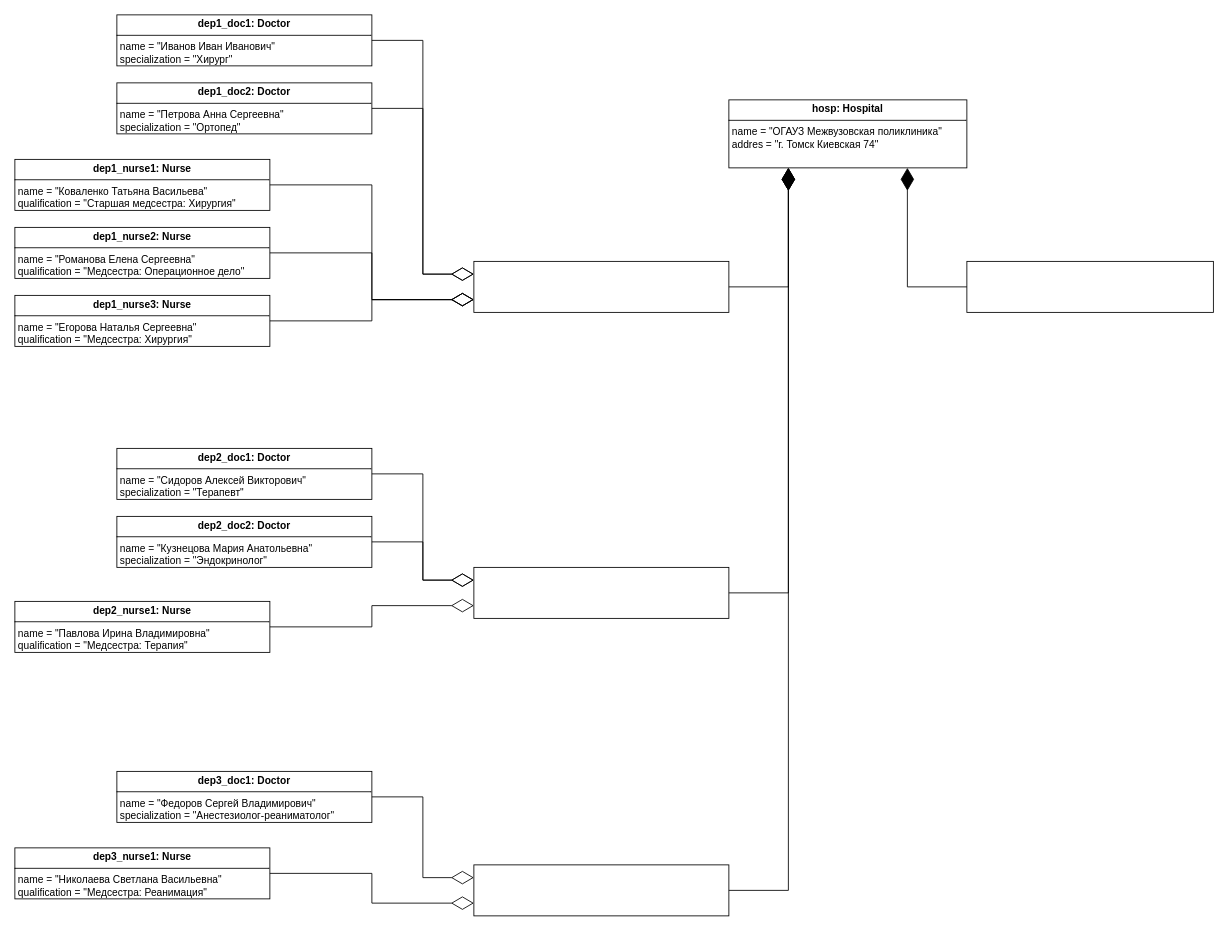
This 1228x940 diagram has some shape labels left out. The shapes that lost their labels are listed below. From the top down, each one's centre as x and y in pixels, then its label:
[601,286]: dep1: Department name = "Хирургическое отделение"
[1089,286]: reception: Reception phone_number = "81234567890"
[601,592]: dep2: Department name = "Терапевтические отделение"
[601,890]: dep3: Department name = "Отделение Анестезиологии и реанимации"
